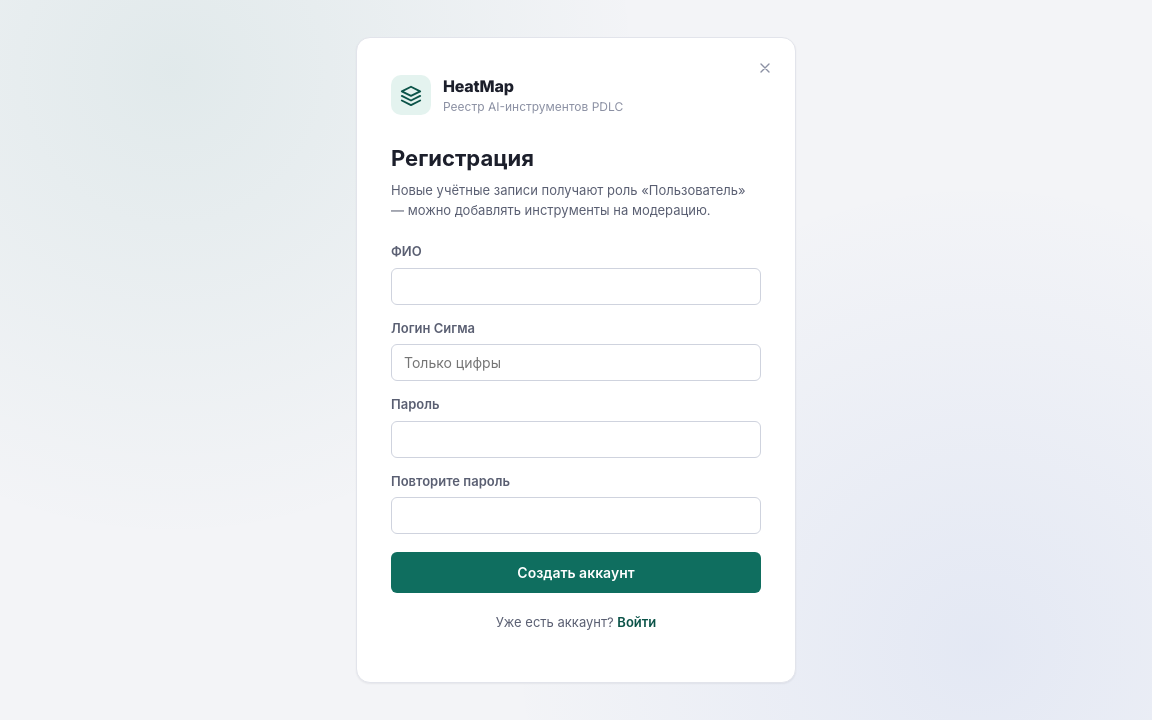
Scenario: RegisterView › rejects a fullName shorter than 3 characters (client-side, before hitting the API)
Type "Ив" into the field with id "fullName".
click(576, 286); type("Ив")  # box left=391, top=268, right=761, bottom=305
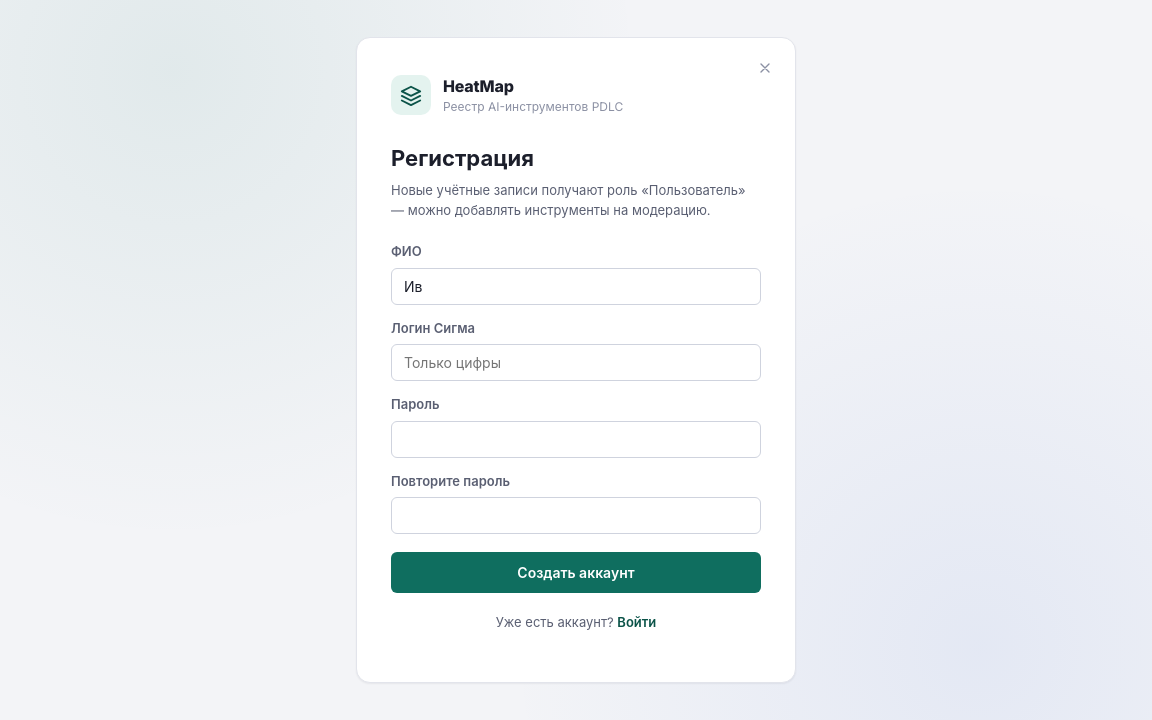
Type "2000" into the field with id "username".
click(576, 363); type("2000")  # box left=391, top=344, right=761, bottom=381
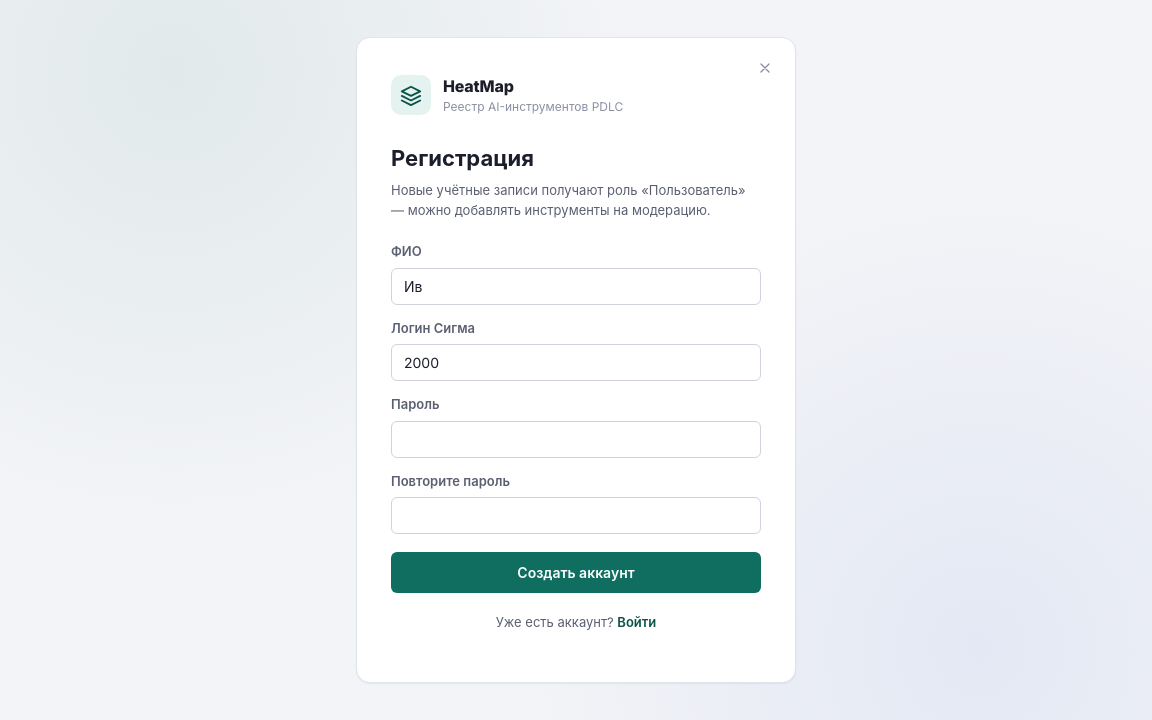
Type "pass123" into the password field labelled "Пароль".
click(576, 439); type("pass123")  # box left=391, top=421, right=761, bottom=458
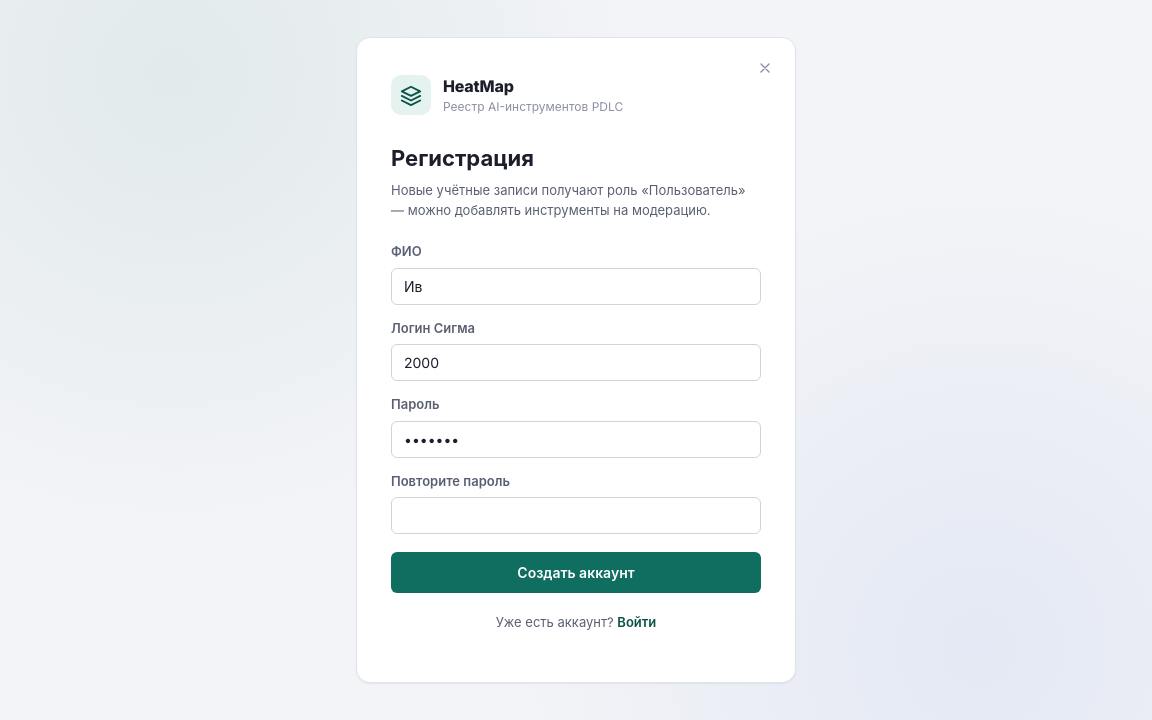
Type "pass123" into the password field with id "confirmPassword".
click(576, 516); type("pass123")  # box left=391, top=497, right=761, bottom=534
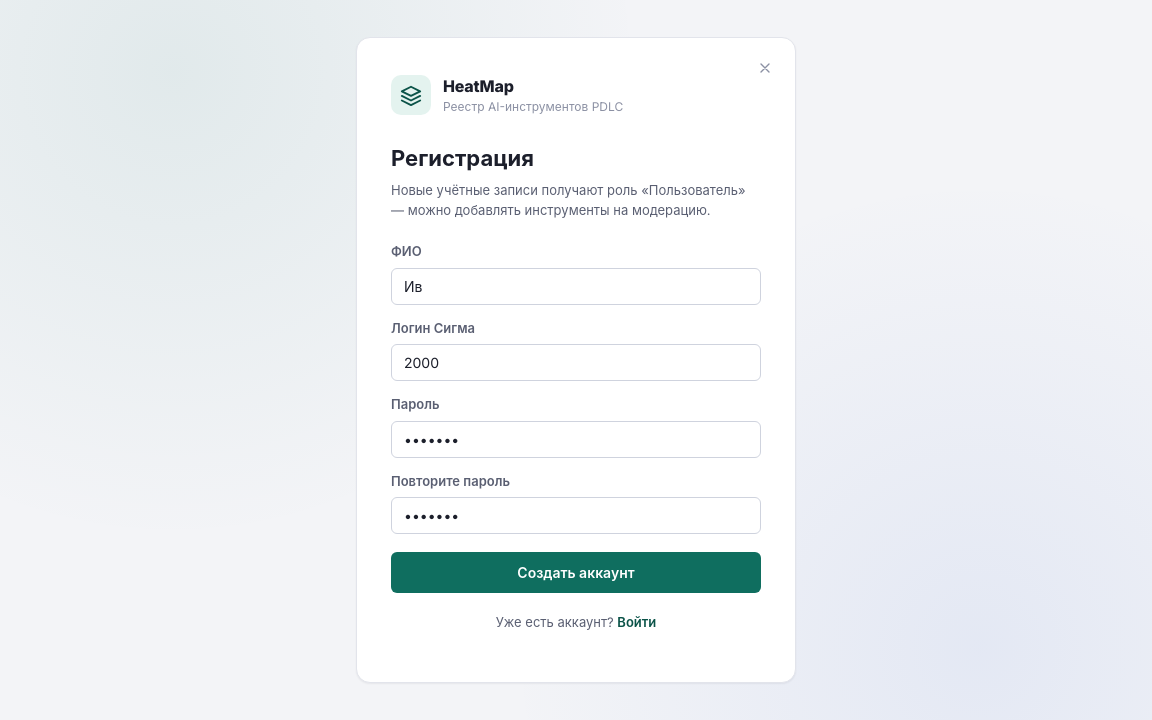
Submit the form, box left=391, top=242, right=761, bottom=593
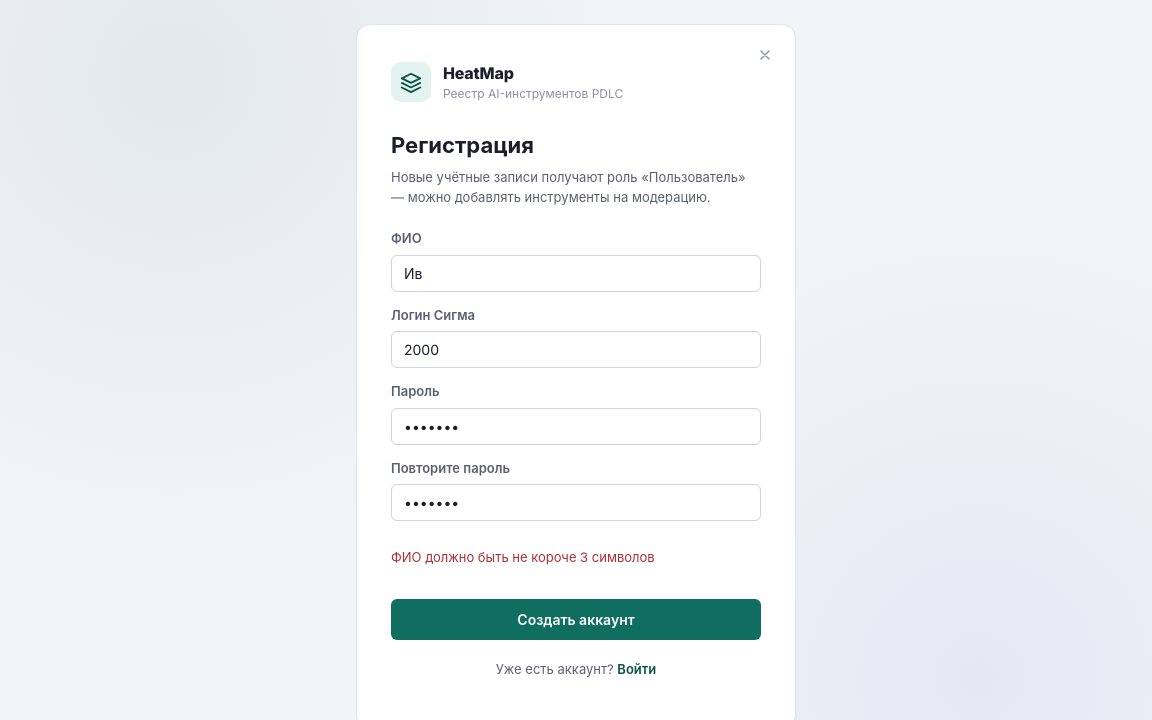
Expected: the text with class "error-text" reads "ФИО должно быть не короче 3 символов", left=391, top=549, right=655, bottom=565
